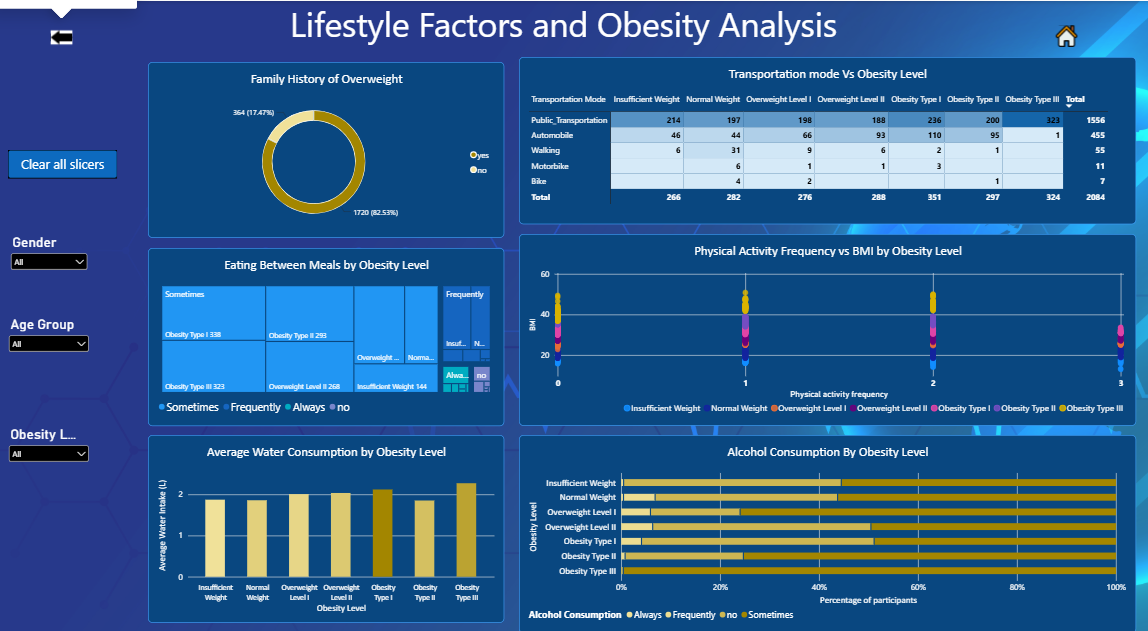

This screenshot's page, from the dashboard's own definition file:
{"tool":"powerbi","page":{"name":"Life style analysis","canvas":[2022,1107],"ordinal":2},"visuals":[{"type":"textbox","box":[437.5,0,1112.5,112.8],"z":0},{"type":"donutChart","title":"Family History of Overweight","fields":{"Category":["Obesity Data.Family History with Overweight"],"Y":["Obesity Data.Total Participants"]},"box":[266.2,106.8,623.6,308.3],"z":1000},{"type":"treemap","title":"Eating Between Meals by Obesity Level","fields":{"Group":["Obesity Data.Food Consumption Between Meals"],"Details":["Obesity Data.Obesity Level"],"Values":["CountNonNull(Obesity Data.Obesity level sort)"]},"box":[266.2,432.6,623.6,311.8],"z":3000},{"type":"hundredPercentStackedBarChart","title":"Alcohol Consumption By Obesity Level","fields":{"Category":["Obesity Data.Obesity Level"],"Series":["Obesity Data.Alcohol Consumption"],"Y":["Obesity Data.Total Participants"]},"box":[916.1,760.2,1080.7,346.8],"z":4000},{"type":"clusteredColumnChart","title":"Average Water Consumption by Obesity Level","fields":{"Category":["Obesity Data.Obesity Level"],"Y":["Avg(Obesity Data.Daily Water Consumption)"]},"box":[266.2,760.2,623.6,329.3],"z":5000},{"type":"slicer","fields":{"Values":["Obesity Data.Gender"]},"box":[20.5,408.4,143.5,82],"z":6000},{"type":"slicer","fields":{"Values":["Obesity Data.Age Group"]},"box":[17.1,552,150.4,76.9],"z":7000},{"type":"slicer","fields":{"Values":["Obesity Data.Obesity Level"]},"box":[17.1,745.1,150.4,88.9],"z":8000},{"type":"actionButton","box":[20.5,261.5,191.4,49.6],"z":9000},{"type":"actionButton","box":[64.9,37.6,100.8,54.7],"z":10000},{"type":"actionButton","box":[1825.1,31.5,100.8,59.8],"z":11000},{"type":"pivotTable","title":"Transportation mode Vs Obesity Level","fields":{"Rows":["Obesity Data.Transportation Mode"],"Columns":["Obesity Data.Obesity Level"],"Values":["CountNonNull(Obesity Data.Obesity level sort)"]},"box":[916.1,98.1,1080.7,292.5],"z":12000},{"type":"scatterChart","title":"Physical Activity Frequency vs BMI by Obesity Level","fields":{"Y":["Obesity Data.BMI"],"Series":["Obesity Data.Obesity Level"],"X":["Obesity Data.Avg.Physical Activity"]},"box":[916.1,408.1,1080.7,336.3],"z":13000}]}

Visuals, with their boxes in screenshot pixels (x1, y1, x2, y2), scaled from the page's 2022x1107 canvas onto the 1148x631 screenshot:
textbox: bbox=(248, 0, 880, 64)
"Family History of Overweight" donutChart: bbox=(151, 61, 505, 237)
"Eating Between Meals by Obesity Level" treemap: bbox=(151, 247, 505, 424)
"Alcohol Consumption By Obesity Level" hundredPercentStackedBarChart: bbox=(520, 433, 1134, 630)
"Average Water Consumption by Obesity Level" clusteredColumnChart: bbox=(151, 433, 505, 621)
slicer - Obesity Data.Gender: bbox=(12, 233, 93, 280)
slicer - Obesity Data.Age Group: bbox=(10, 315, 95, 358)
slicer - Obesity Data.Obesity Level: bbox=(10, 425, 95, 475)
actionButton: bbox=(12, 149, 120, 177)
actionButton: bbox=(37, 21, 94, 53)
actionButton: bbox=(1036, 18, 1093, 52)
"Transportation mode Vs Obesity Level" pivotTable: bbox=(520, 56, 1134, 223)
"Physical Activity Frequency vs BMI by Obesity Level" scatterChart: bbox=(520, 233, 1134, 424)
